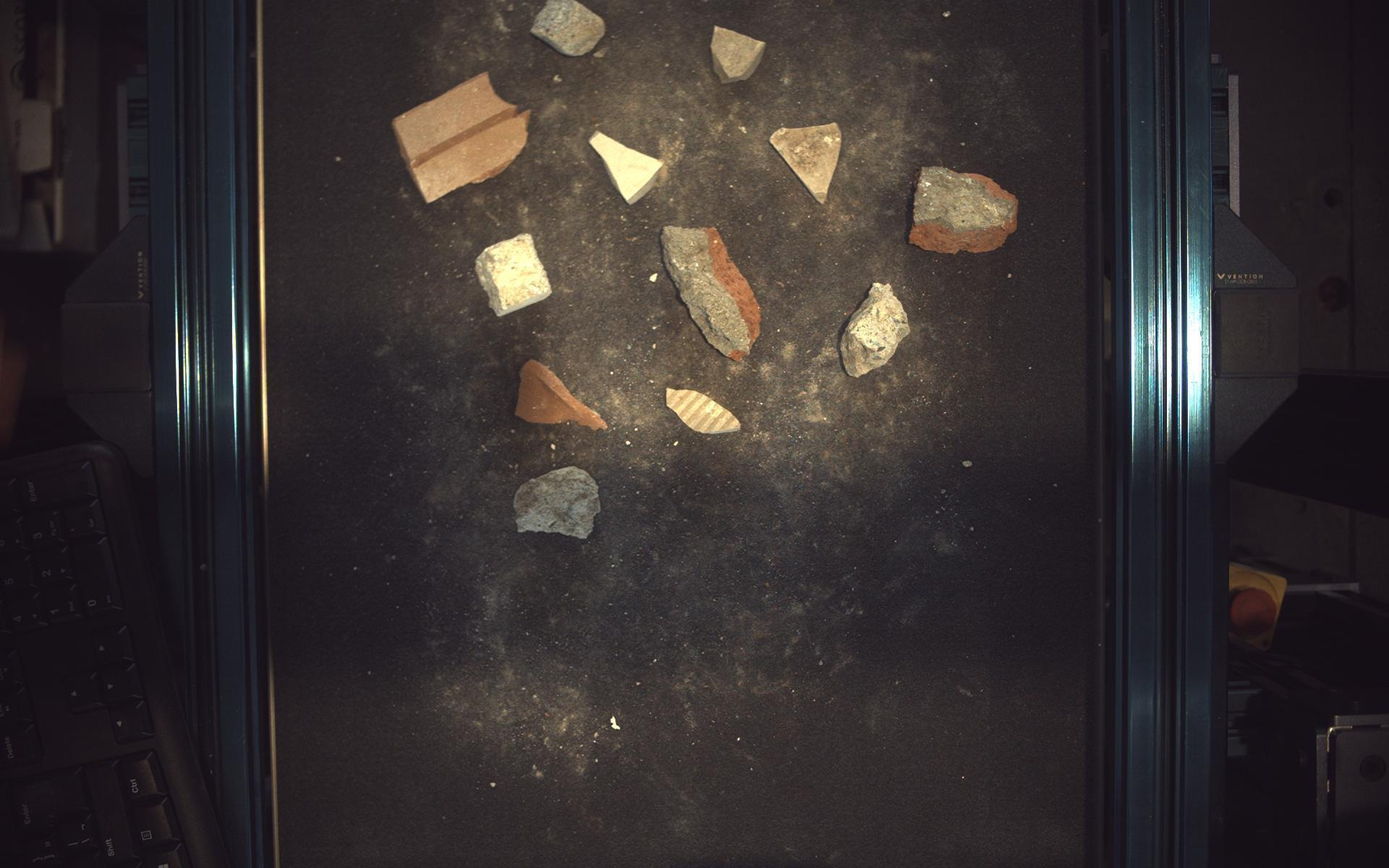brick: (392, 71, 530, 201), (662, 226, 762, 360), (911, 166, 1020, 253), (517, 360, 608, 430)
concrete: (841, 283, 912, 377), (514, 467, 601, 540), (476, 233, 552, 316), (530, 1, 606, 54)
tile: (771, 122, 843, 203), (590, 131, 666, 203), (667, 389, 742, 434), (712, 25, 767, 82)
